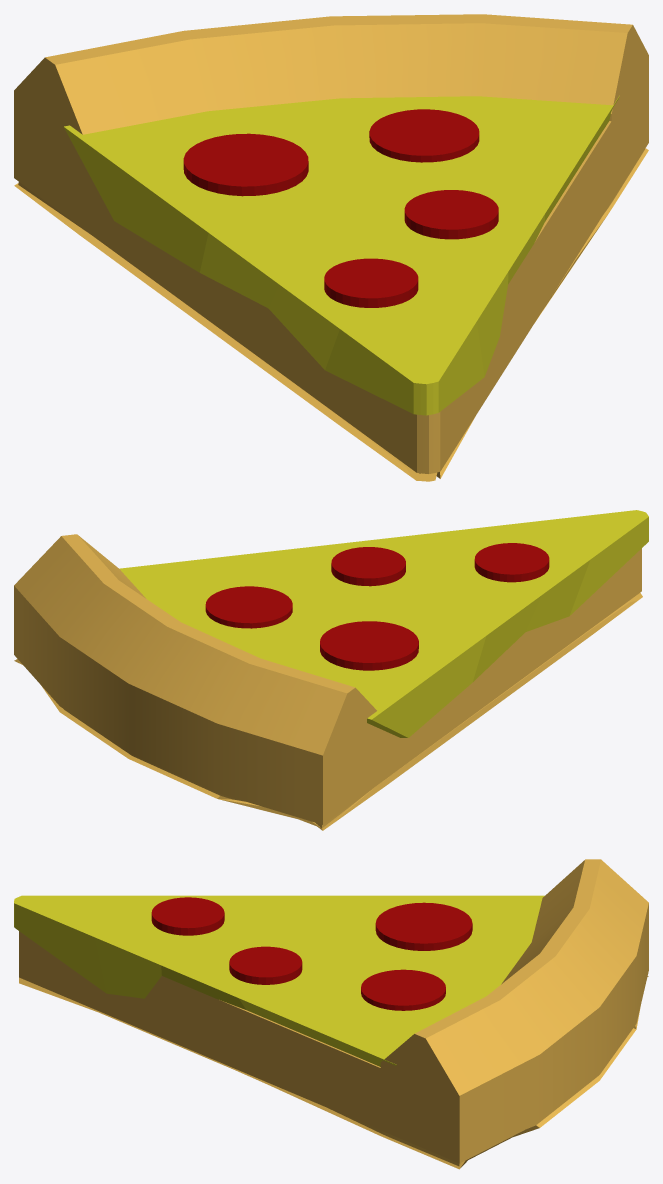
File: pizza.fbx
3 renders of one model, top to bottom at view 1: azimuth 30°, elevation 25°; view 2: azimuth 150°, elevation 25°; view 3: azimuth 270°, elevation 25°, orthographic. The views are drawn at different scales.
Parts seen in each view (by area): view 1: Circle, Circle.001, Circle.003, Circle.004, Circle.005, Circle.002; view 2: Circle, Circle.001, Circle.003, Circle.004, Circle.005, Circle.002; view 3: Circle, Circle.001, Circle.003, Circle.004, Circle.005, Circle.002.
Part boxes in pixels (x1,y1,x2,y2): Circle: [14, 14, 648, 481]; Circle.001: [64, 95, 619, 415]; Circle.003: [183, 133, 308, 196]; Circle.004: [369, 109, 479, 162]; Circle.005: [324, 258, 418, 307]; Circle.002: [404, 190, 498, 239]; Circle: [14, 534, 642, 830]; Circle.001: [119, 510, 648, 737]; Circle.003: [320, 621, 418, 670]; Circle.004: [205, 586, 292, 628]; Circle.005: [474, 543, 549, 582]; Circle.002: [331, 547, 405, 586]; Circle: [19, 859, 648, 1169]; Circle.001: [14, 895, 544, 1066]; Circle.003: [375, 902, 472, 950]; Circle.004: [361, 969, 445, 1010]; Circle.005: [151, 897, 224, 935]; Circle.002: [229, 946, 302, 984].
Size of the model in its own units: 87.07 by 24.18 by 119.
